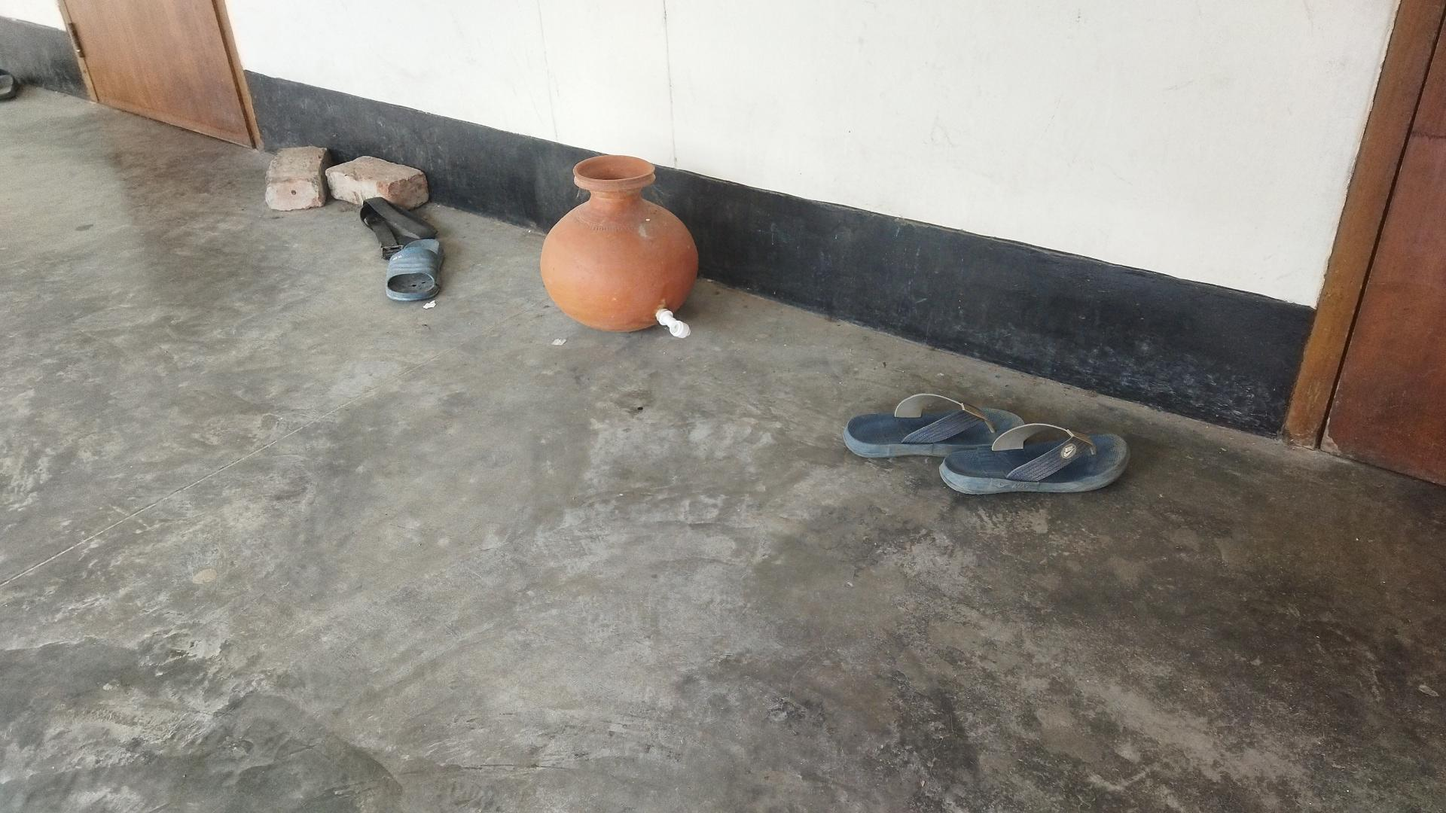Footwear: (839, 384, 1130, 511), (370, 233, 449, 305)
